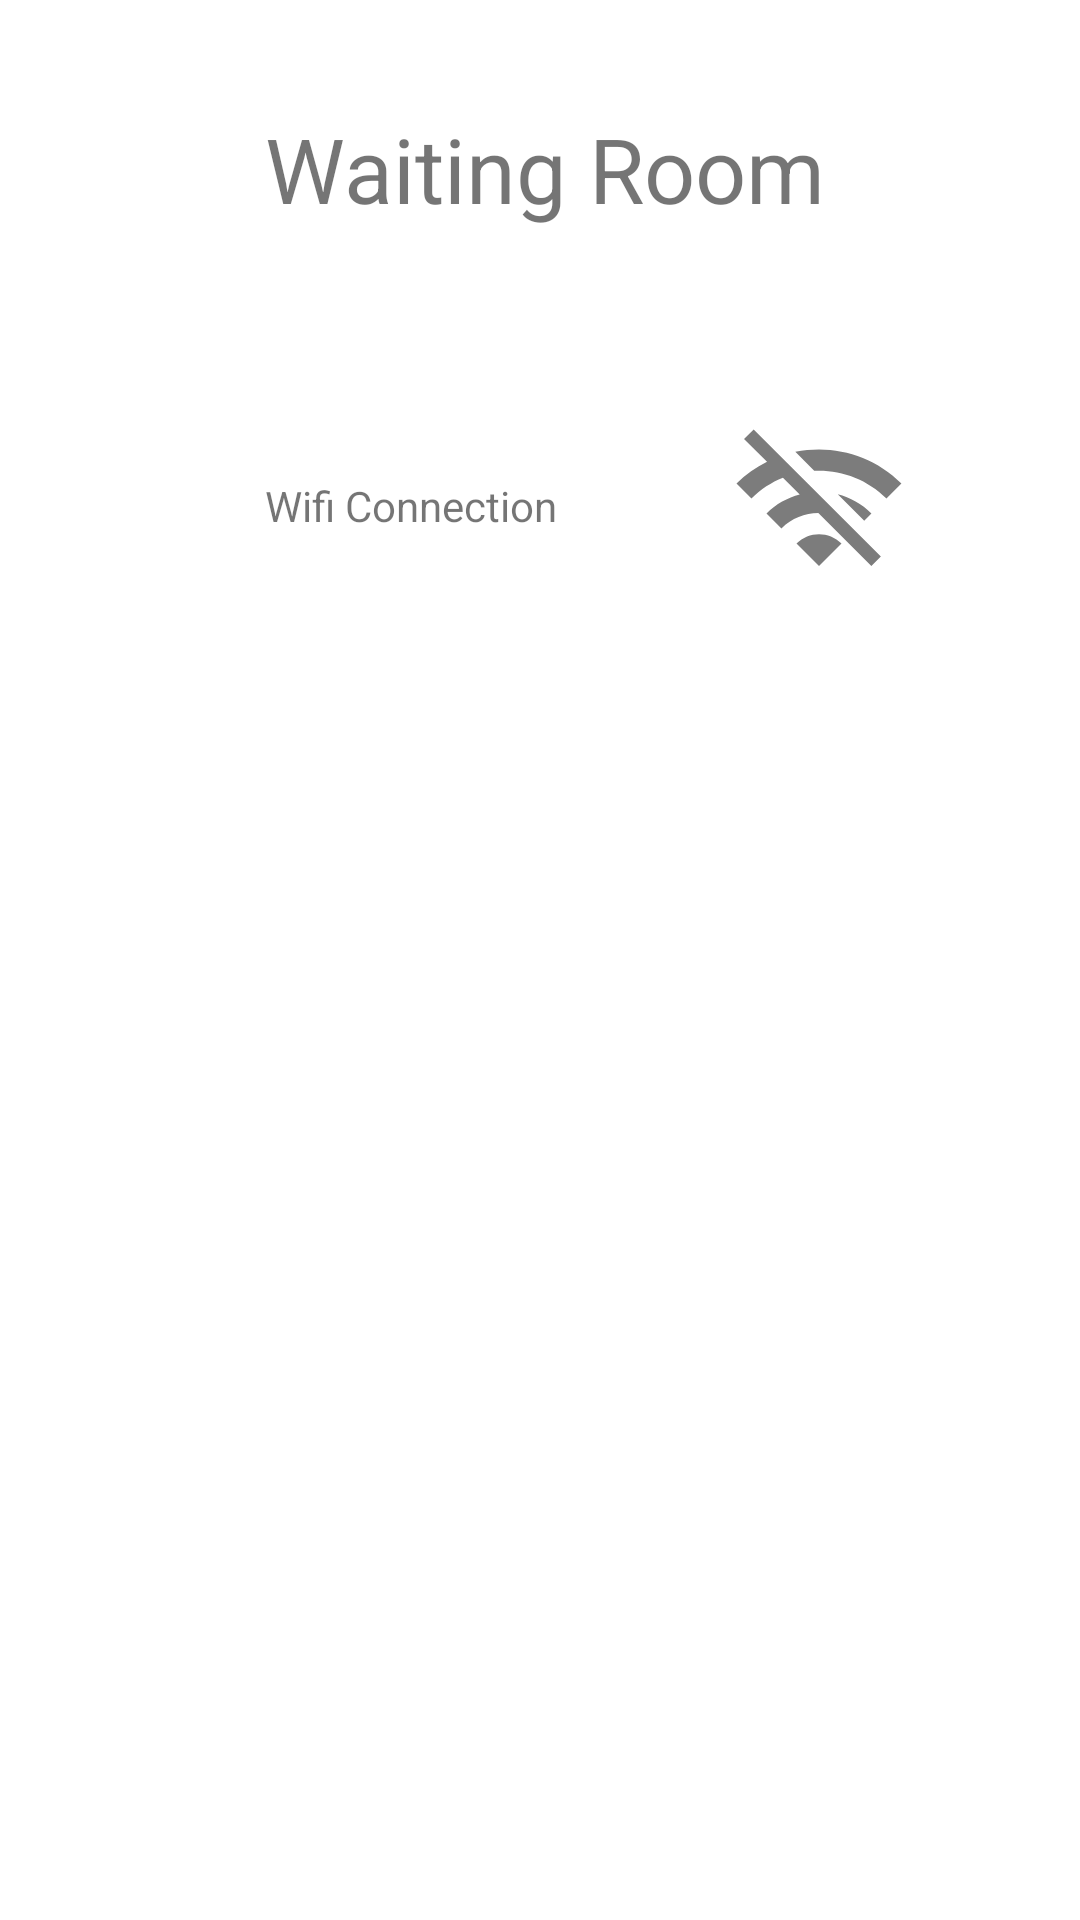

Icon click points for this 1080w x 1920h phone screenshot, format point (x, y):
wifi off: point (818, 497)
